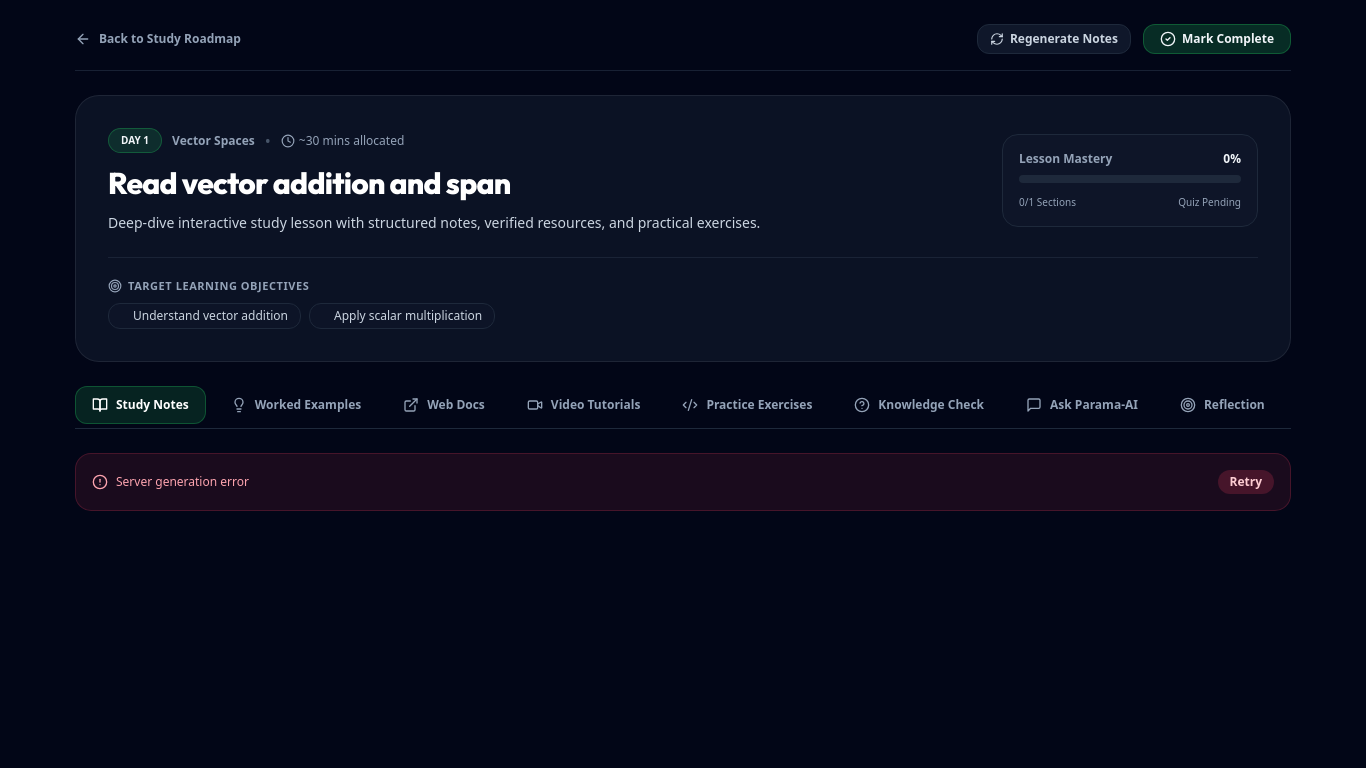
Test: LessonView Component › displays error state with retry button when lesson generation fails and terminates loading spinner
The image size is (1366, 768).
Expected: the text "Server generation error" is shown, 116,474 -> 249,490
Click the button "Retry".
click(1246, 482)  # box 1218,470 -> 1274,494
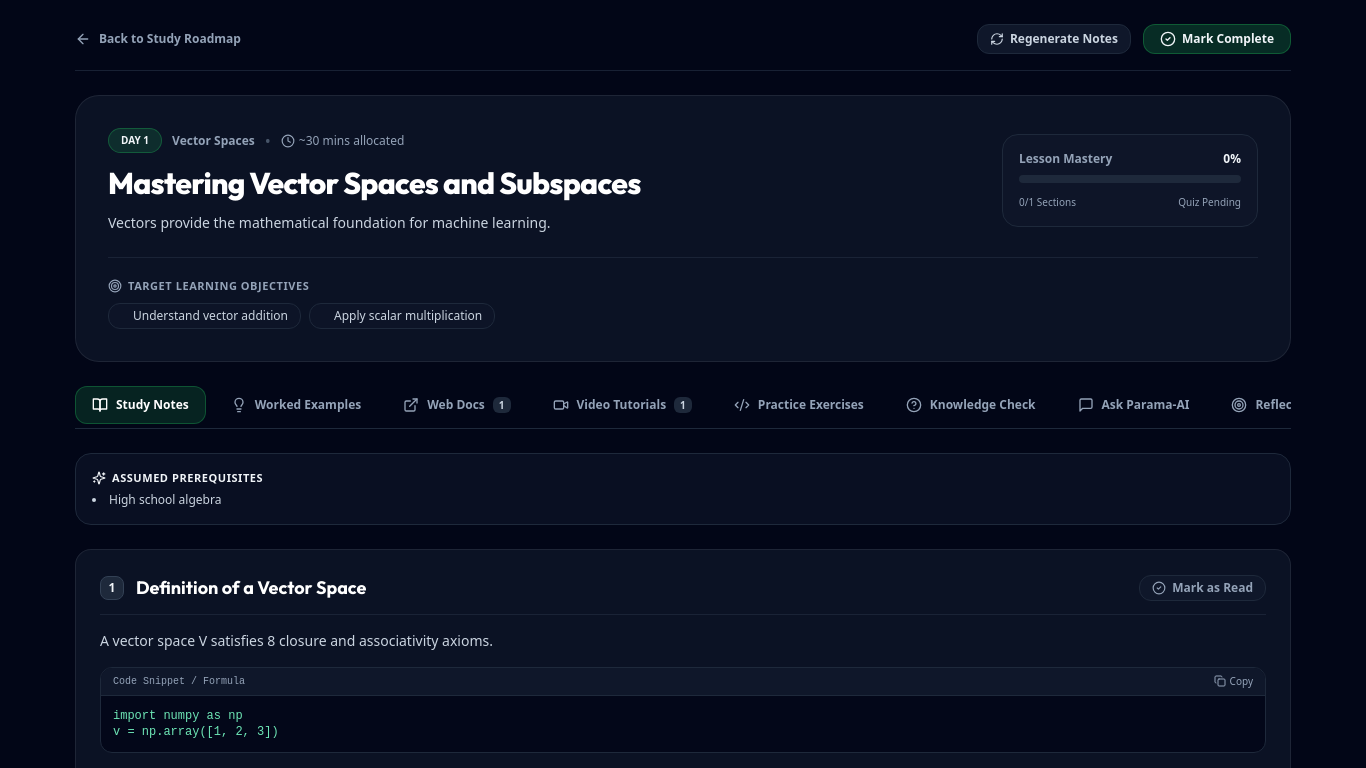
Expected: the heading "Mastering Vector Spaces and Subspaces" is shown, 108,165 -> 641,201
